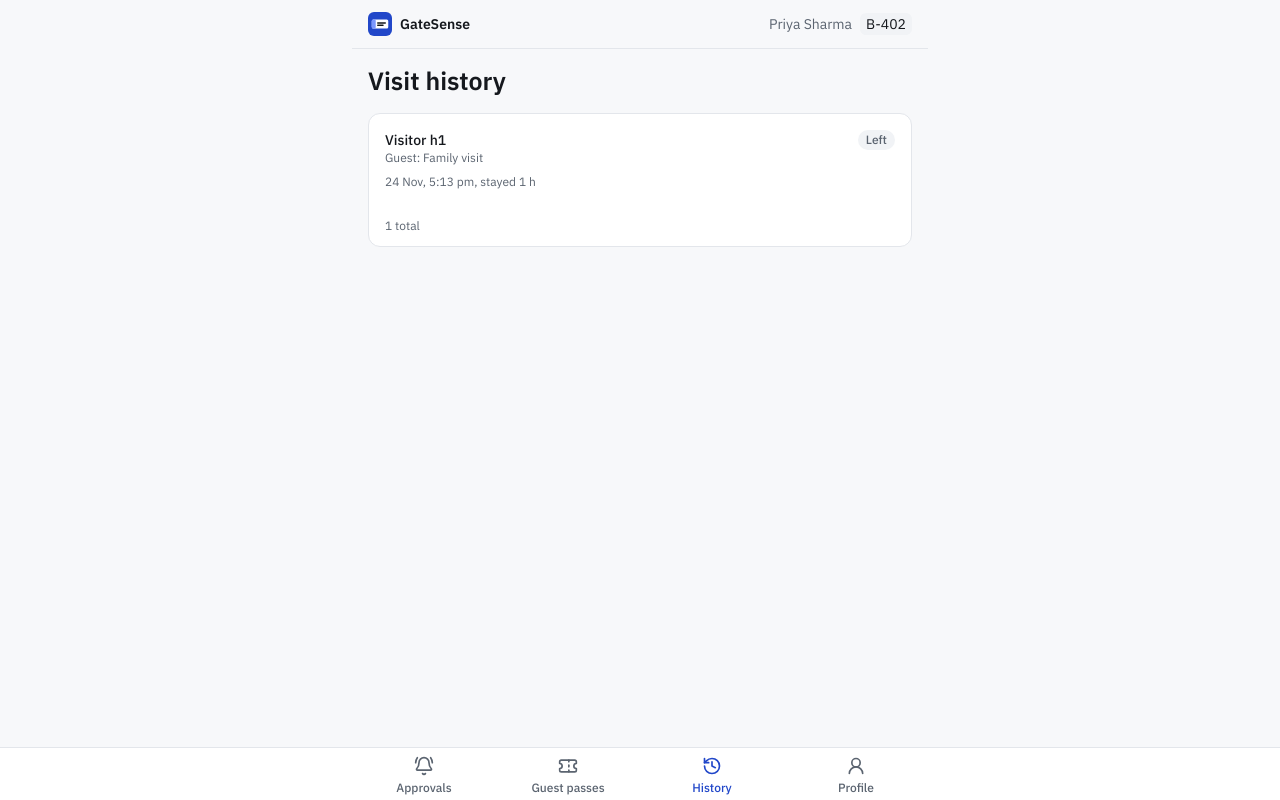
Test: Resident app › shows the visit history and the profile
Expected: the text "Visitor h1" is shown, left=385, top=131, right=446, bottom=149
Expected: the text "24 Nov, 5:13 pm, stayed 1 h" is shown, left=385, top=174, right=536, bottom=190
Click the link "Profile" at (856,776), box left=838, top=756, right=874, bottom=795
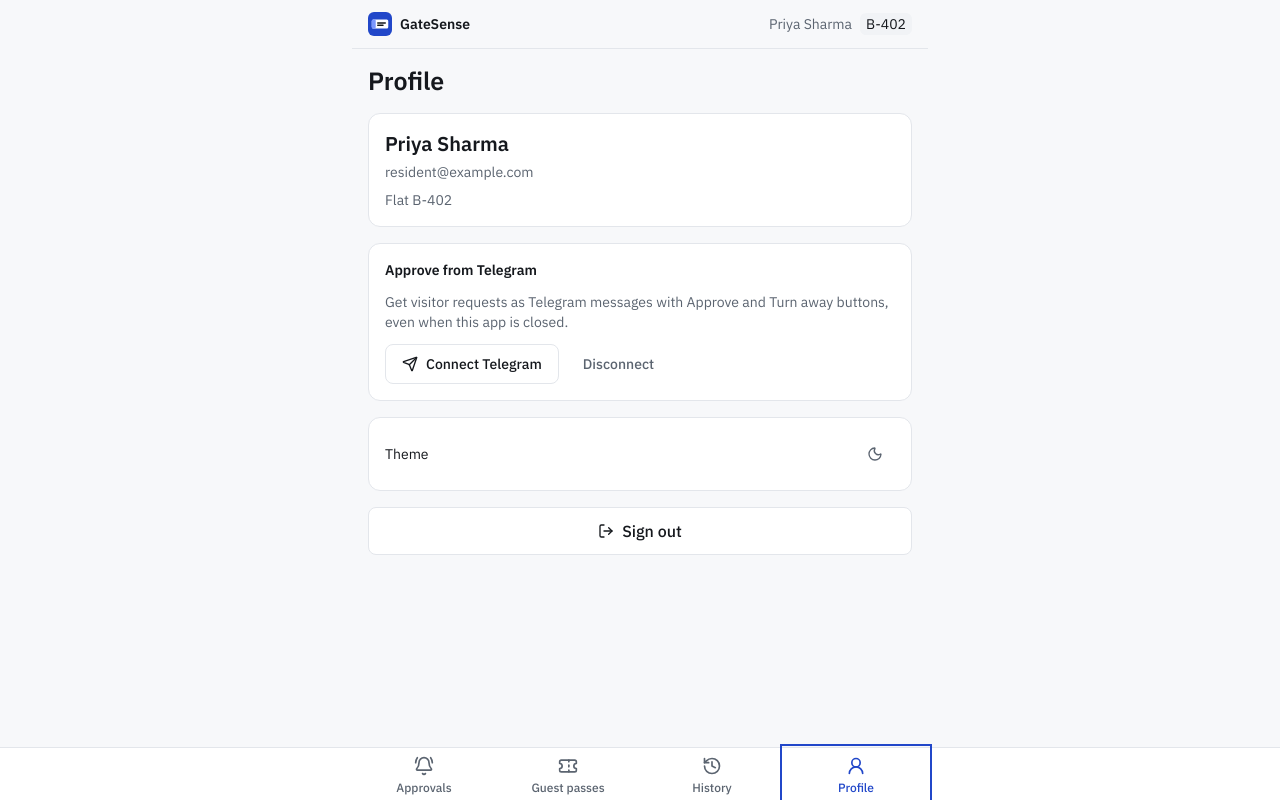
Now the button "Connect Telegram" is shown, box left=385, top=344, right=559, bottom=384
